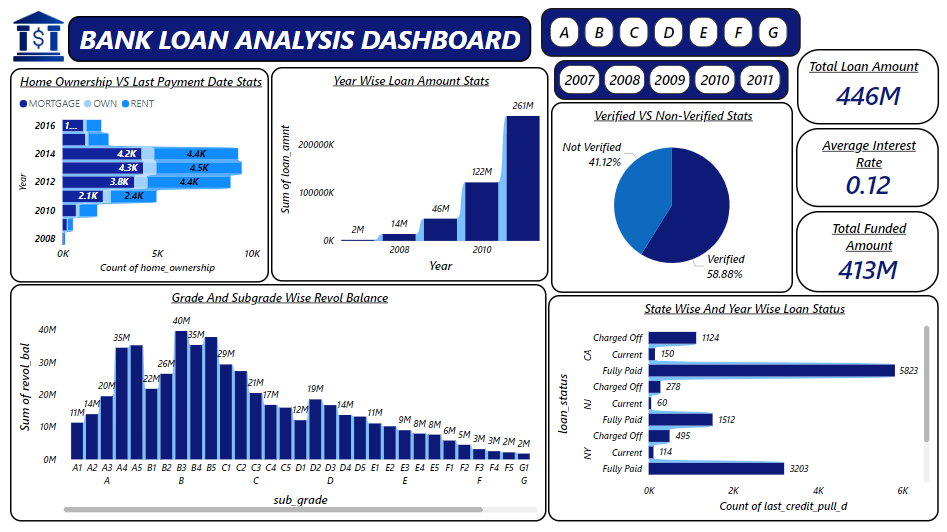

This screenshot's page, from the dashboard's own definition file:
{"tool":"tableau","page":{"name":"Dashboard 3","canvas":[1000,1000],"units":"permille","ordinal":0},"visuals":[{"type":"image","param":"Image/bank (3)ik.png","box":[220.2,7.2,50,94.2]},{"type":"text","box":[268.7,14.5,484.3,83.3]},{"type":"worksheet","title":"Avg","mark":"Automatic","box":[164.3,104.5,181.2,126.9]},{"type":"worksheet","title":"loan","mark":"Automatic","box":[6.2,104.9,154.5,126.6]},{"type":"worksheet","title":"Grade Filter","mark":"Automatic","rows":["Calculation_1132373831686709253"],"cols":["grade"],"box":[348.9,105.1,287.4,99.6]},{"type":"worksheet","title":"KPI 04","mark":"Automatic","box":[639.8,105.1,352.4,882.2]},{"type":"worksheet","title":"Year Filter","mark":"Bar","rows":["Calculation_1132373831687622663"],"cols":["issue_d"],"box":[349.8,206.5,285.4,96]},{"type":"worksheet","title":"recoveries","mark":"Automatic","box":[6.2,238.8,154.5,117.5]},{"type":"worksheet","title":"funded","mark":"Automatic","box":[164.5,239.1,181.8,117.8]},{"type":"worksheet","title":"KPI 03","mark":"Pie","box":[350.7,308,285.7,279]},{"type":"worksheet","title":"KPI 02","mark":"Automatic","rows":["revol_bal"],"cols":["sub_grade"],"box":[6.9,365.9,339.4,300.7]},{"type":"worksheet","title":"KPI 05","mark":"Bar","rows":["home_ownership"],"cols":["last_pymnt_d"],"box":[349.8,594.2,286.6,393.1]},{"type":"worksheet","title":"KPI 01","mark":"Bar","rows":["issue_d"],"cols":["loan_amnt"],"box":[6.1,673.9,340.3,313.4]}]}

Visuals, with their boxes on the dashboard's canvas, which has no fixed pixel size, in thousandths of its width and height (x1, y1, x2, y2). These are canvas units, not pixel positions in the 947x532 screenshot, which may show the page scaled, cropped or inside an application window:
image: region(220, 7, 270, 101)
text: region(269, 14, 753, 98)
"Avg" worksheet: region(164, 104, 346, 231)
"loan" worksheet: region(6, 105, 161, 232)
"Grade Filter" worksheet: region(349, 105, 636, 205)
"KPI 04" worksheet: region(640, 105, 992, 987)
"Year Filter" worksheet (Bar marks): region(350, 206, 635, 302)
"recoveries" worksheet: region(6, 239, 161, 356)
"funded" worksheet: region(164, 239, 346, 357)
"KPI 03" worksheet (Pie marks): region(351, 308, 636, 587)
"KPI 02" worksheet: region(7, 366, 346, 667)
"KPI 05" worksheet (Bar marks): region(350, 594, 636, 987)
"KPI 01" worksheet (Bar marks): region(6, 674, 346, 987)
